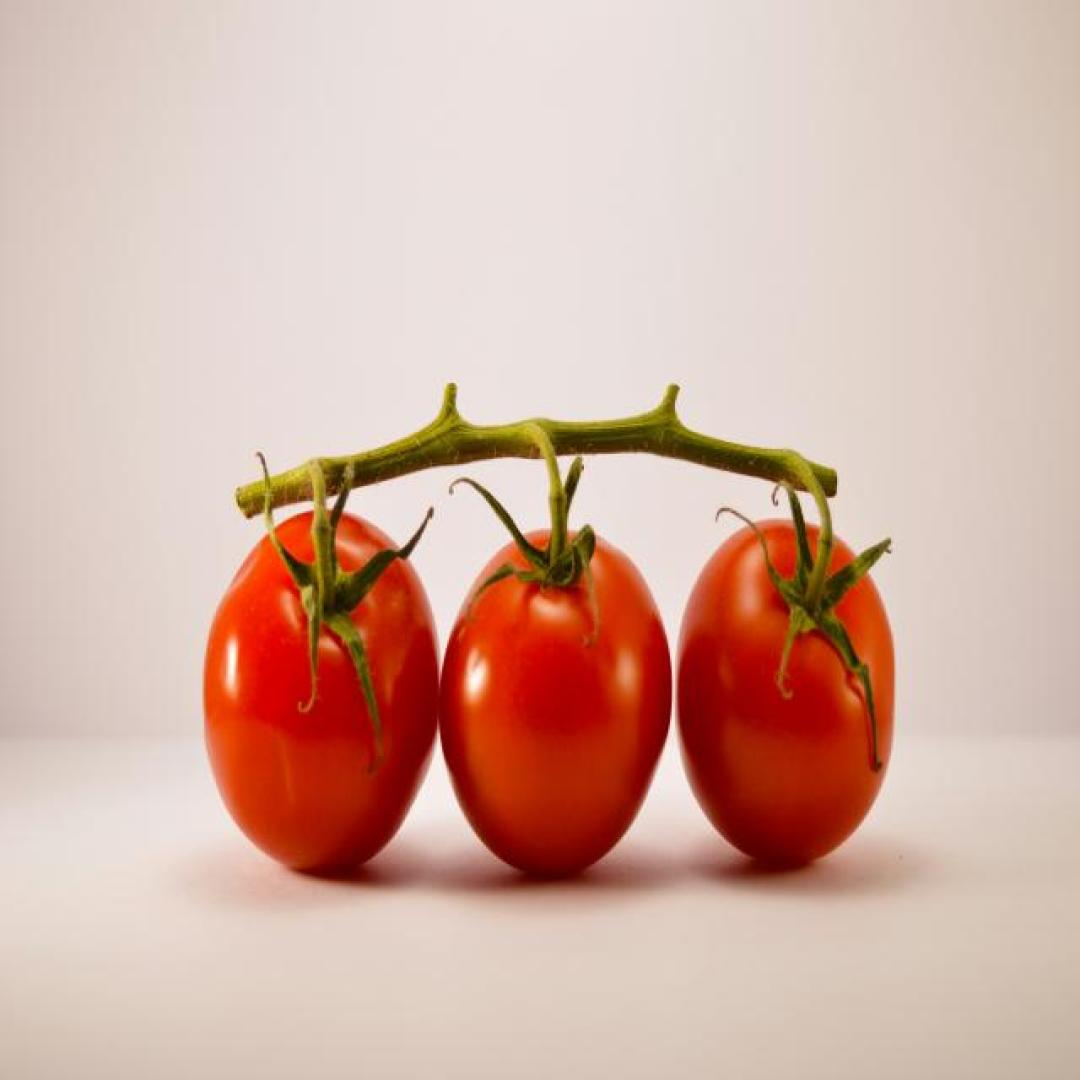matang: (202, 508, 440, 874), (437, 528, 673, 878), (672, 516, 896, 868)
